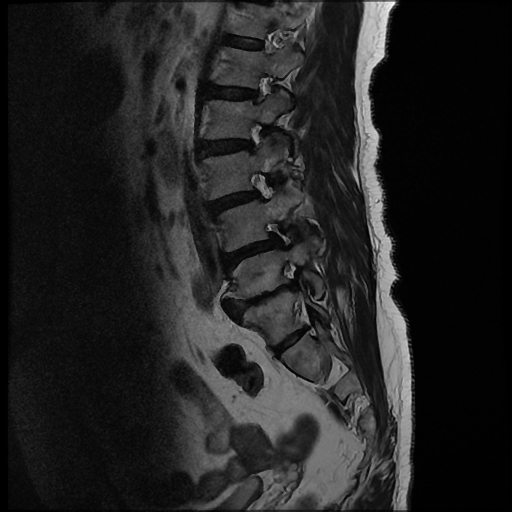RFS0: (239, 161, 289, 211), (240, 63, 285, 115)
RFS1: (235, 116, 283, 158)
RFS2: (258, 213, 303, 252)
